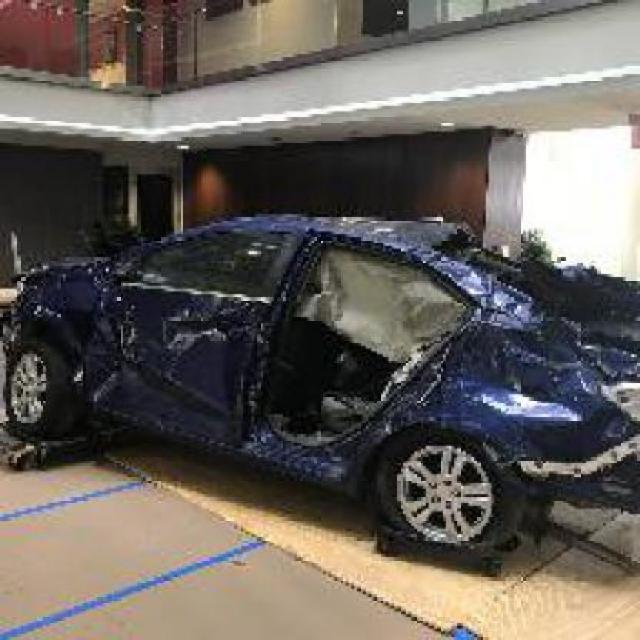damaged-door: (267, 232, 458, 466), (128, 238, 276, 450)
